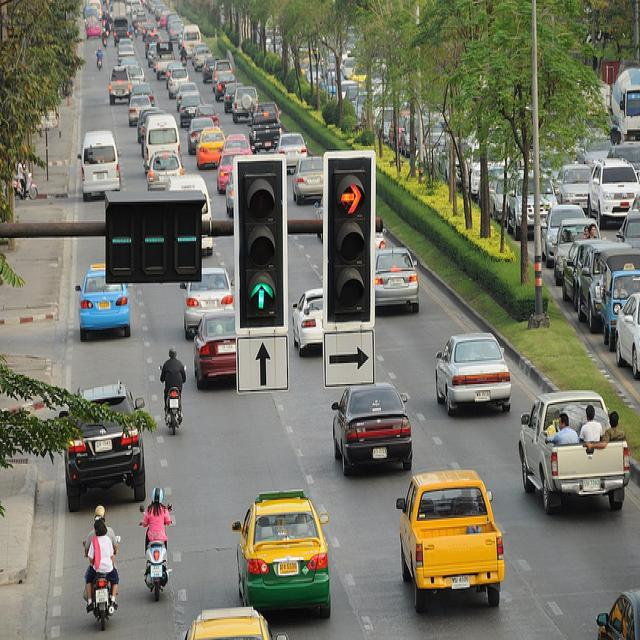motor: (159, 364, 187, 434), (89, 572, 115, 630), (147, 540, 168, 605), (97, 58, 102, 72)
